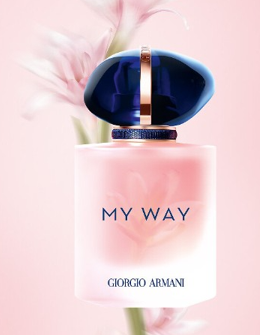armani_my_way_floral: (67, 43, 220, 310)
